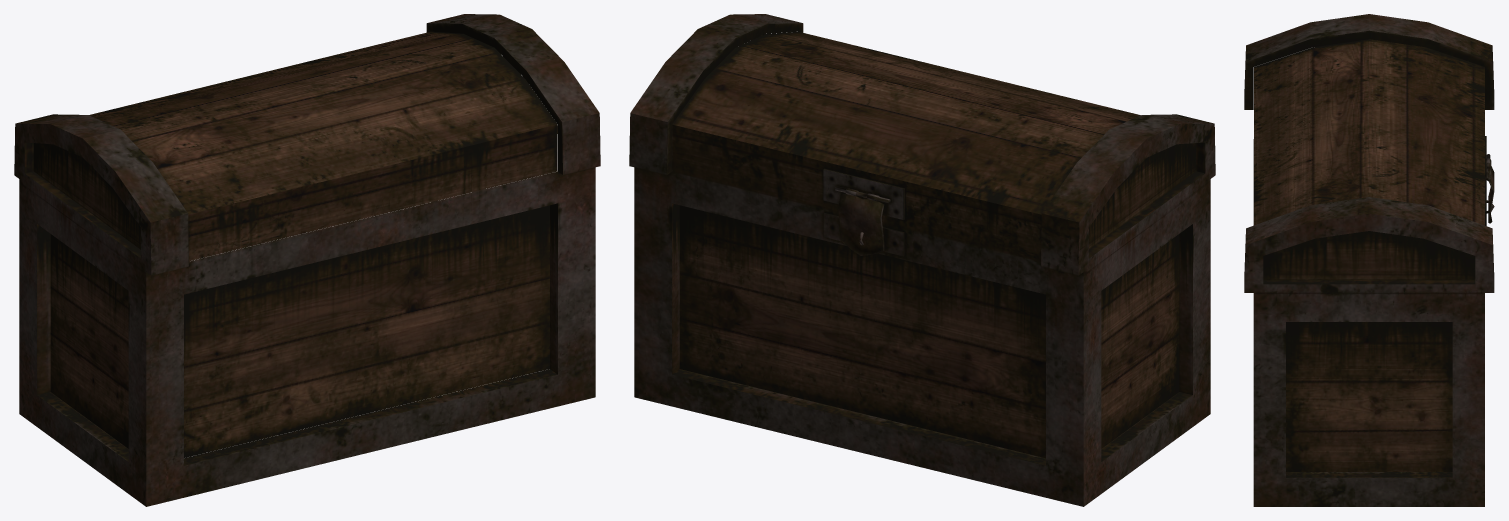
The model's file is chest.gltf.
3 views of the same model, side by side, from view 1: azimuth 30°, elevation 25°; view 2: azimuth 150°, elevation 25°; view 3: azimuth 270°, elevation 25° (orthographic). The views are drawn at different scales.
Visible parts, largest first — view 1: Chest; view 2: Chest; view 3: Chest.
Boxes of the visible parts, x1,y1,x2,y2 form: Chest: (14, 14, 600, 506); Chest: (629, 14, 1215, 506); Chest: (1244, 14, 1494, 506).
Bounding box in the file's own units: 1.38 × 0.9465 × 0.7321.
Materials: 1 (1 with a texture image).
